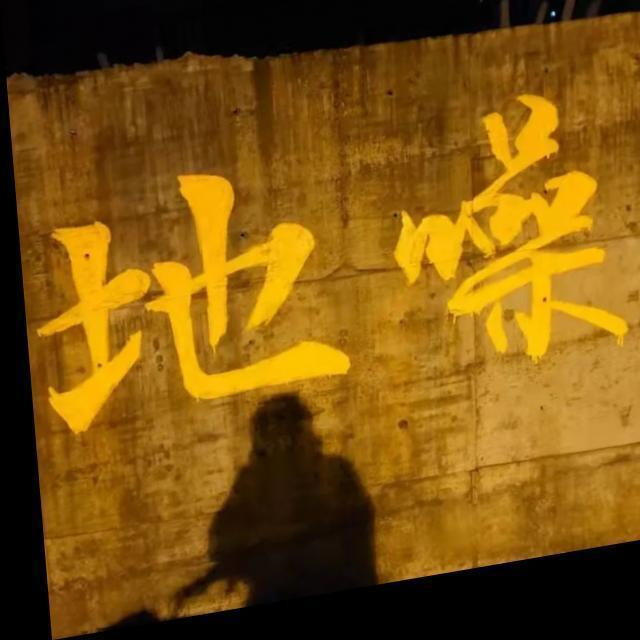nonspitting: (36, 172, 352, 436), (399, 95, 631, 358)
